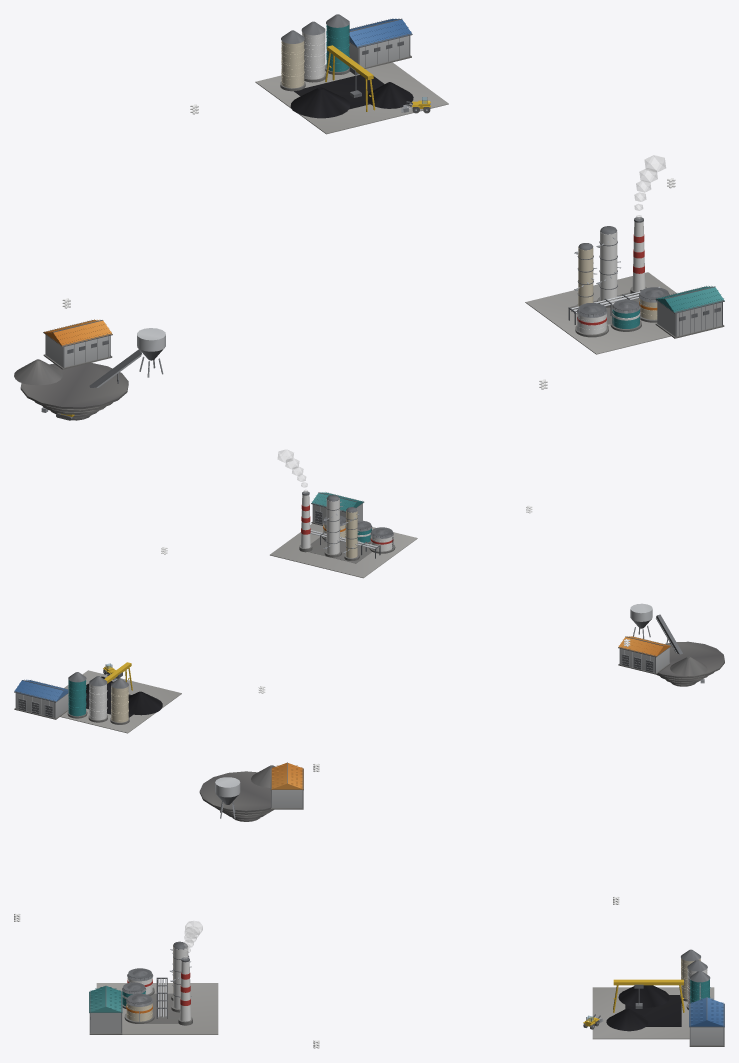
File: Sites_P3.fbx
3 renders of one model, top to bottom at view 1: azimuth 30°, elevation 25°; view 2: azimuth 150°, elevation 25°; view 3: azimuth 270°, elevation 25°, orthographic. The views are drawn at different scales.
Visible parts, largest first — view 1: Site.Store.Yard, Site.Plant.Pad, Site.Quarry.Benches, Site.Plant.Hall, Site.Quarry.Shed, Site.Store.Shed, Site.Plant.Col1, Site.Store.Silo0, Site.Store.Pile0, Site.Store.Silo1, Site.Store.Silo2, Site.Plant.Tank0 (+9 smaller); view 2: Site.Plant.Pad, Site.Store.Shed, Site.Store.Yard, Site.Quarry.Benches, Site.Quarry.Shed, Site.Plant.Col1, Site.Plant.Hall, Site.Store.Silo2, Site.Store.Silo1, Site.Store.Silo0, Site.Plant.Col0, Site.Store.Pile0 (+4 smaller); view 3: Site.Store.Yard, Site.Plant.Pad, Site.Quarry.Benches, Site.Store.Shed, Site.Plant.Hall, Site.Quarry.Shed, Site.Store.Pile0, Site.Plant.Tank2, Site.Store.Gantry, Site.Plant.Stack, Site.Plant.Col1, Site.Store.Pile1 (+3 smaller).
Boxes of the visible parts, x1=… form: Site.Store.Yard: x1=255, y1=62, x2=448, y2=134; Site.Plant.Pad: x1=525, y1=272, x2=676, y2=354; Site.Quarry.Benches: x1=20, y1=363, x2=128, y2=420; Site.Plant.Hall: x1=655, y1=286, x2=724, y2=338; Site.Quarry.Shed: x1=43, y1=319, x2=112, y2=369; Site.Store.Shed: x1=349, y1=18, x2=412, y2=68; Site.Plant.Col1: x1=596, y1=226, x2=620, y2=307; Site.Store.Silo0: x1=280, y1=30, x2=305, y2=91; Site.Store.Pile0: x1=290, y1=87, x2=350, y2=118; Site.Store.Silo1: x1=301, y1=21, x2=325, y2=82; Site.Store.Silo2: x1=325, y1=14, x2=349, y2=74; Site.Plant.Tank0: x1=575, y1=303, x2=608, y2=337; Site.Plant.Pad: x1=270, y1=523, x2=417, y2=578; Site.Store.Shed: x1=14, y1=679, x2=68, y2=719; Site.Store.Yard: x1=60, y1=670, x2=181, y2=733; Site.Quarry.Benches: x1=656, y1=641, x2=724, y2=686; Site.Quarry.Shed: x1=618, y1=636, x2=671, y2=674; Site.Plant.Col1: x1=323, y1=495, x2=342, y2=557; Site.Plant.Hall: x1=311, y1=492, x2=364, y2=525; Site.Store.Silo2: x1=67, y1=672, x2=87, y2=718; Site.Store.Silo1: x1=88, y1=676, x2=107, y2=722; Site.Store.Silo0: x1=110, y1=678, x2=129, y2=724; Site.Plant.Col0: x1=343, y1=507, x2=360, y2=560; Site.Store.Pile0: x1=128, y1=691, x2=162, y2=715; Site.Store.Yard: x1=592, y1=987, x2=714, y2=1039; Site.Plant.Pad: x1=96, y1=983, x2=218, y2=1034; Site.Quarry.Benches: x1=199, y1=771, x2=273, y2=821; Site.Store.Shed: x1=689, y1=997, x2=724, y2=1046; Site.Plant.Hall: x1=89, y1=985, x2=122, y2=1034; Site.Quarry.Shed: x1=270, y1=762, x2=303, y2=809; Site.Store.Pile0: x1=618, y1=985, x2=669, y2=1007; Site.Plant.Tank2: x1=124, y1=993, x2=154, y2=1023; Site.Store.Gantry: x1=613, y1=979, x2=684, y2=1012; Site.Plant.Stack: x1=178, y1=957, x2=192, y2=1025; Site.Plant.Col1: x1=170, y1=942, x2=191, y2=1012; Site.Store.Pile1: x1=606, y1=1008, x2=648, y2=1031.
Size of the model in its own units: 29134 by 5914 by 30388.
